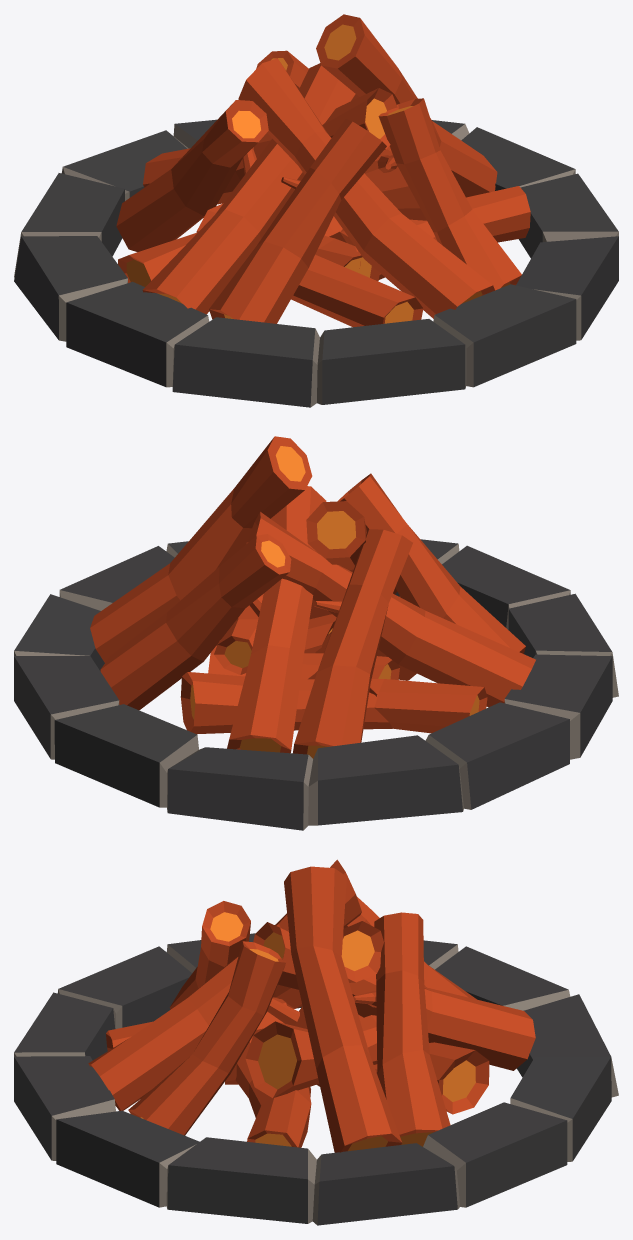
Rendered from campfire.glb.
3 renders of one model, top to bottom at view 1: azimuth 30°, elevation 25°; view 2: azimuth 150°, elevation 25°; view 3: azimuth 270°, elevation 25°, orthographic.
Visible parts, largest first — view 1: Item17_Medieval_0; view 2: Item17_Medieval_0; view 3: Item17_Medieval_0.
Boxes of the visible parts, x1,y1,x2,y2 form: Item17_Medieval_0: (14, 14, 618, 407); Item17_Medieval_0: (14, 436, 618, 830); Item17_Medieval_0: (14, 859, 618, 1225).
Size of what is drawn, in the model's own units: 0.6476 by 0.3131 by 0.6539.
Materials: 1 (1 with a texture image).
